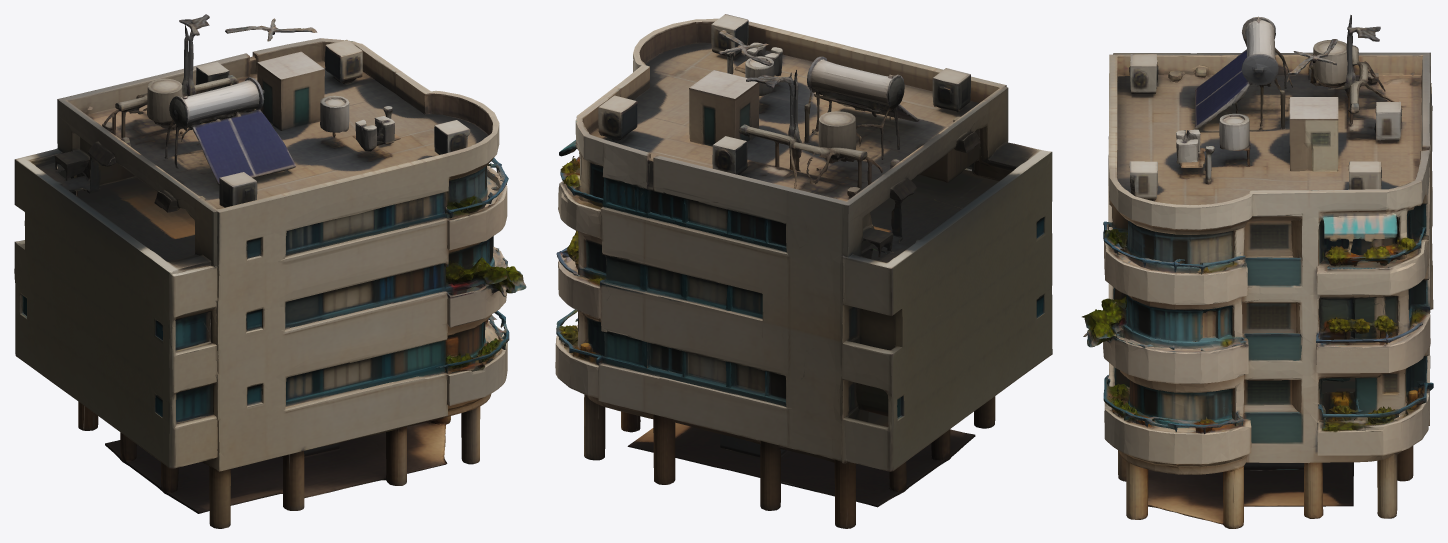
File: r3_bauhaus_corner.glb
3 views of the same model, side by side, from view 1: azimuth 30°, elevation 25°; view 2: azimuth 150°, elevation 25°; view 3: azimuth 270°, elevation 25° (orthographic). The views are drawn at different scales.
Parts seen in each view (by area): view 1: world; view 2: world; view 3: world.
Boxes of the visible parts, x1,y1,x2,y2 form: world: [14, 14, 526, 528]; world: [555, 14, 1052, 528]; world: [1082, 15, 1433, 528].
Bounding box in the file's own units: 0.9563 × 0.9993 × 0.7732.
Materials: 1 (1 with a texture image).
